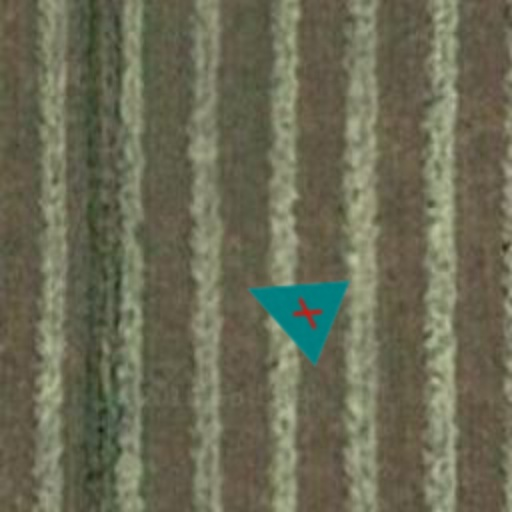triangle: (228, 244, 352, 368)
